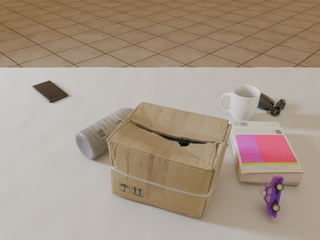book: (229, 120, 304, 187)
bottle: (75, 108, 134, 159)
box: (107, 102, 232, 217)
cup: (221, 85, 261, 121)
mouse: (258, 93, 286, 116)
phone: (32, 81, 68, 103)
toy_car: (260, 176, 284, 218)
